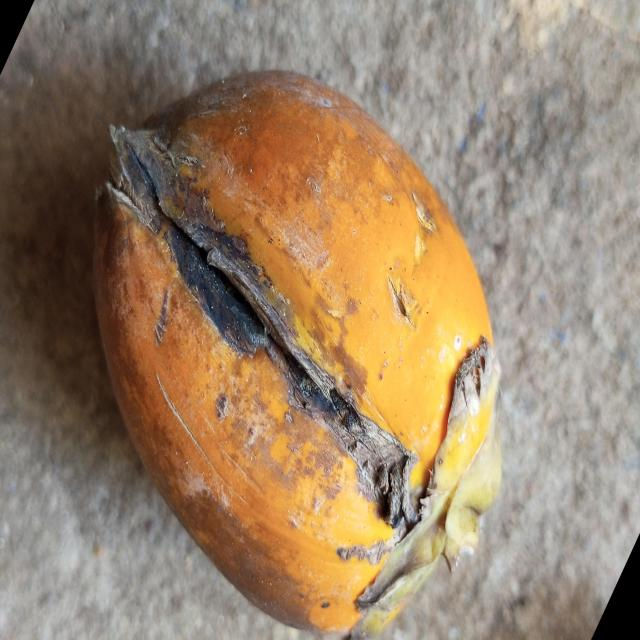damaged: (94, 72, 500, 637)
